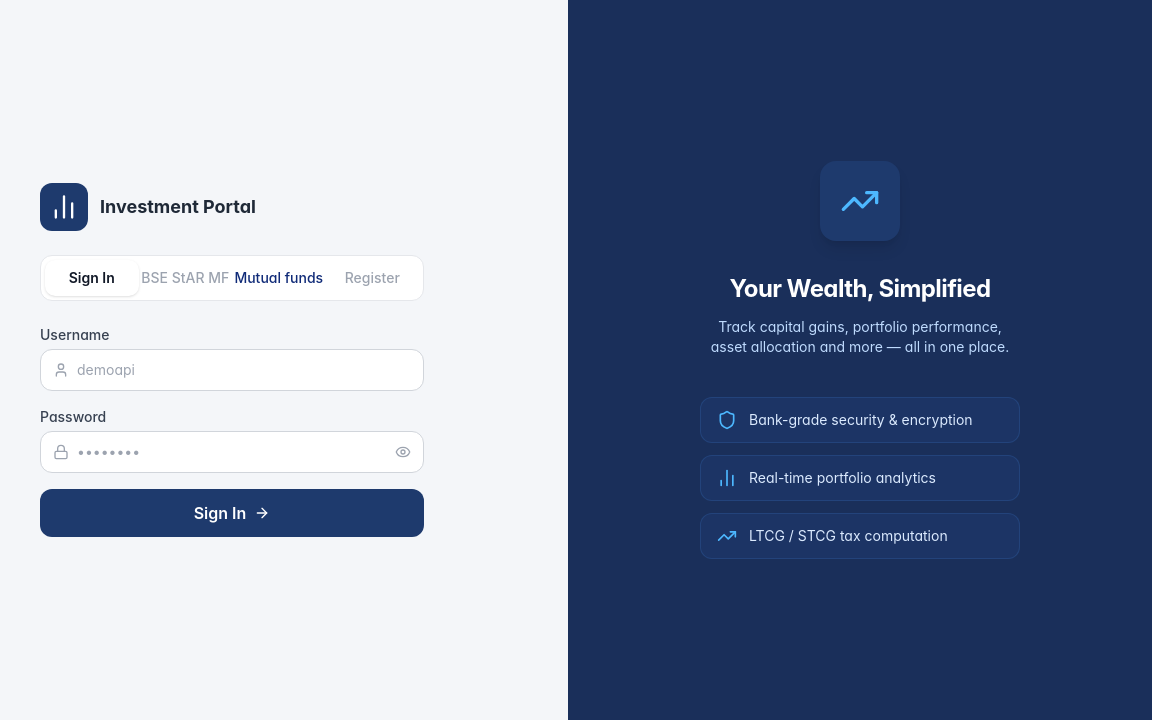
Test case: Mutual funds portal login › shows the API error and stays on the portal after invalid credentials
Click the button "Mutual funds": click(279, 278) [232,260,326,296]
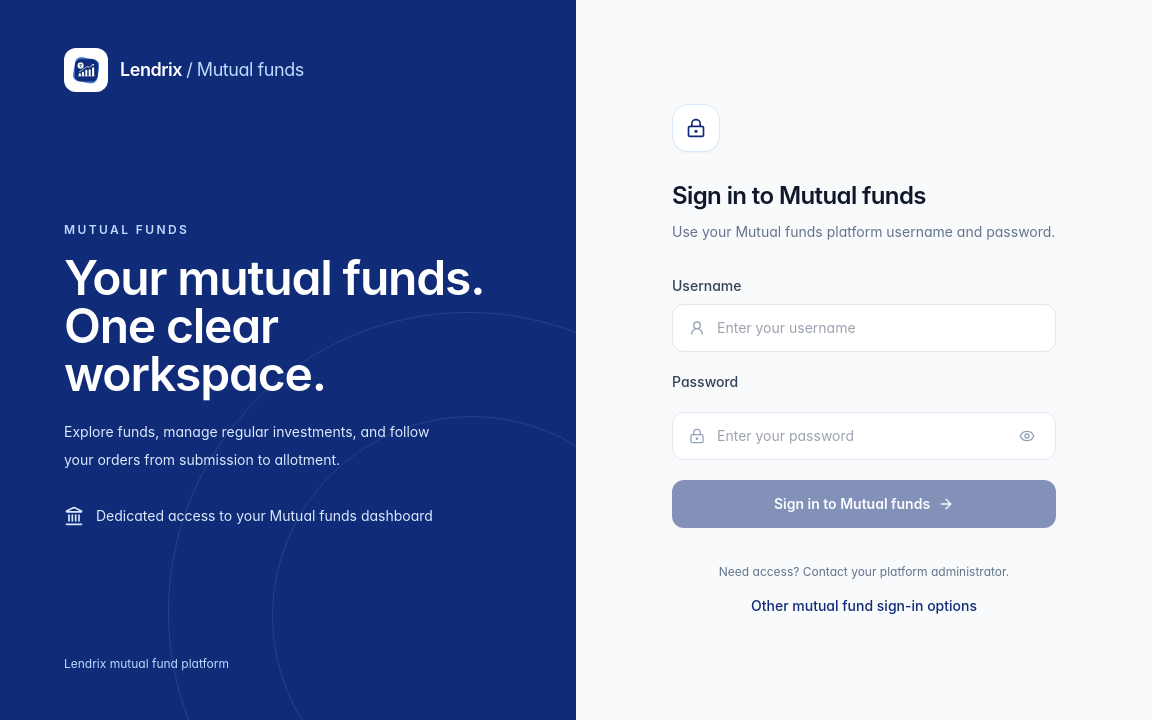
In the field labelled "Username": (878, 328) [717,318,1039,338], type "test-member"
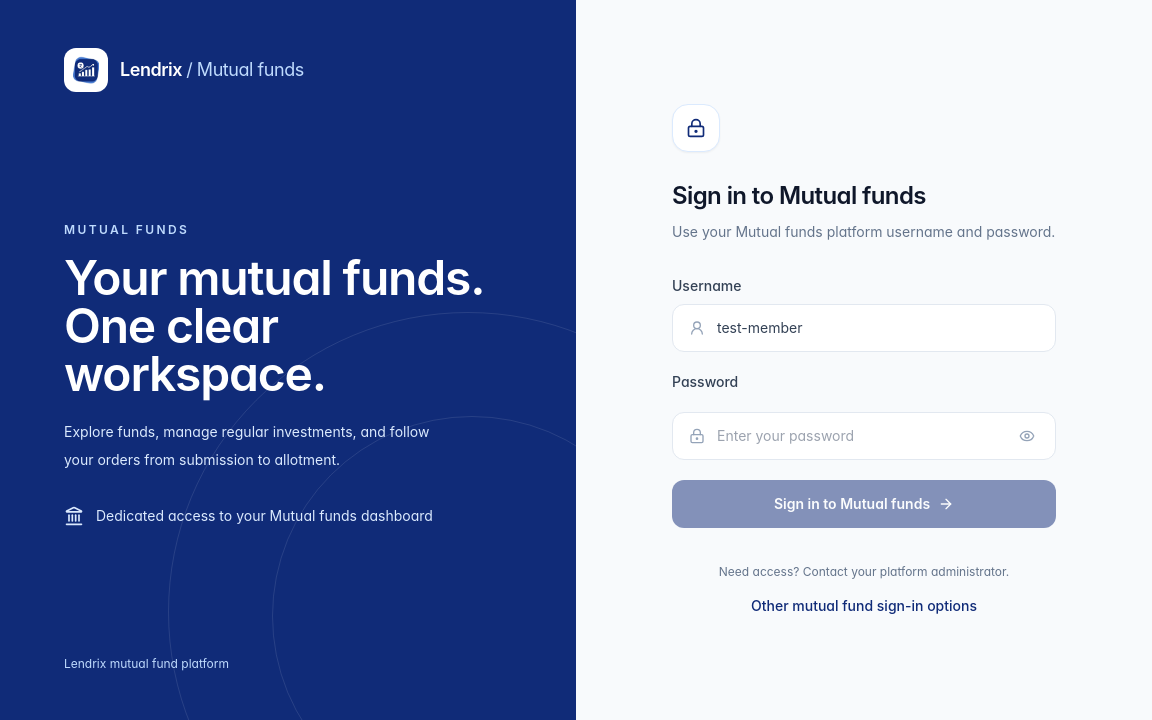
In the password field labelled "Password": (860, 436) [717,426,1003,446], type "test-password"
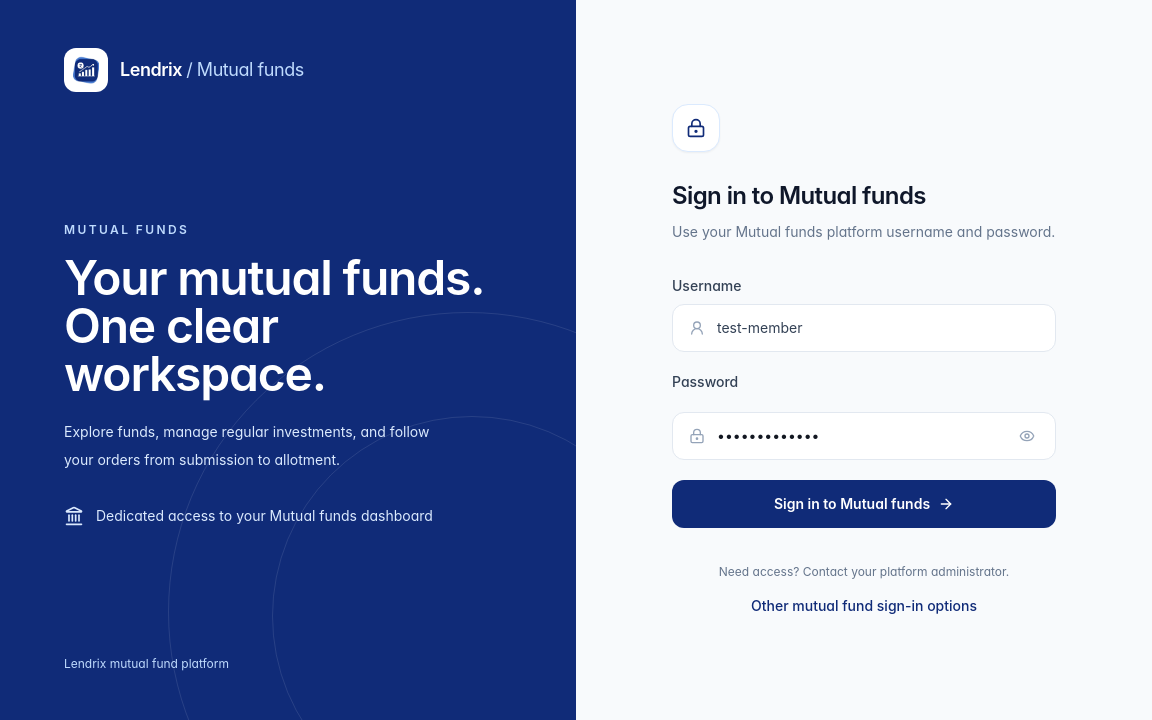
Click the button "Sign in to Mutual funds": click(864, 504) [672,480,1056,528]
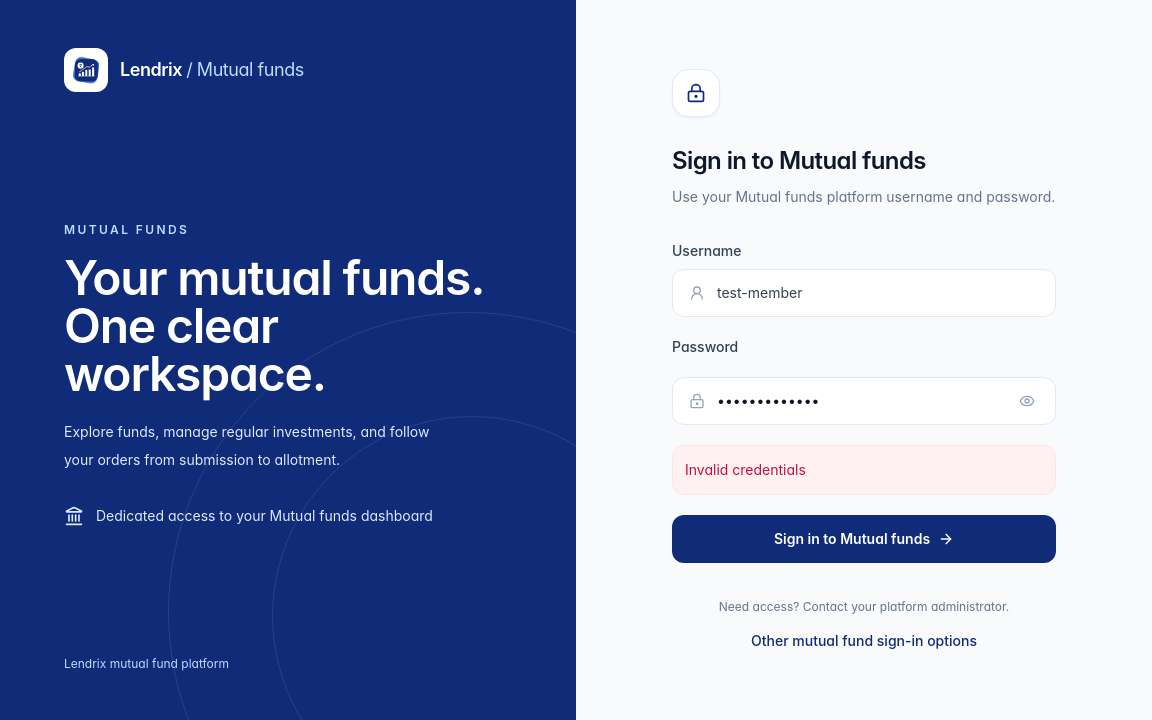
Check: the button "Sign in to Mutual funds" is enabled, box [672,515,1056,563]
Check: the message reads "Invalid credentials", box [685,461,806,478]
